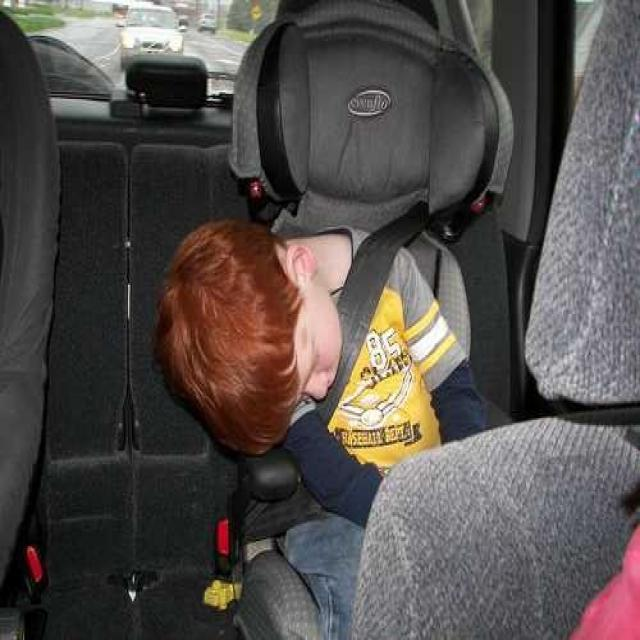seatbelt: (300, 179, 404, 452)
